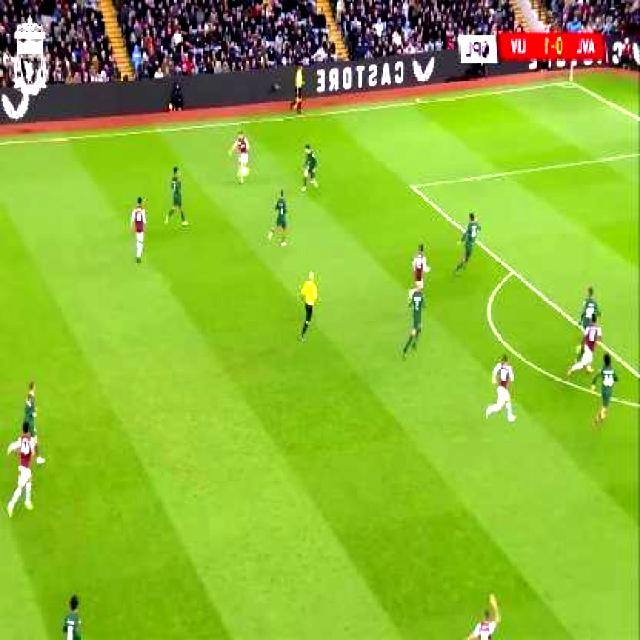bigarea_top_inner: (403, 176, 420, 198)
corner: (558, 72, 577, 94)
top_arc_area_intersection: (500, 260, 522, 285)
